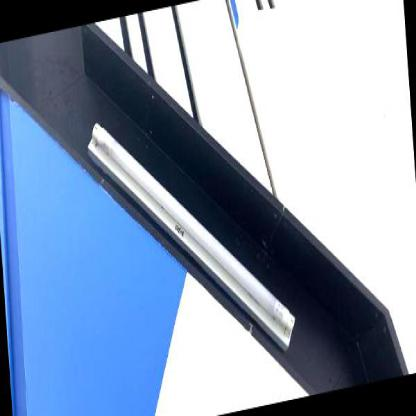light_off: (79, 72, 303, 402)
